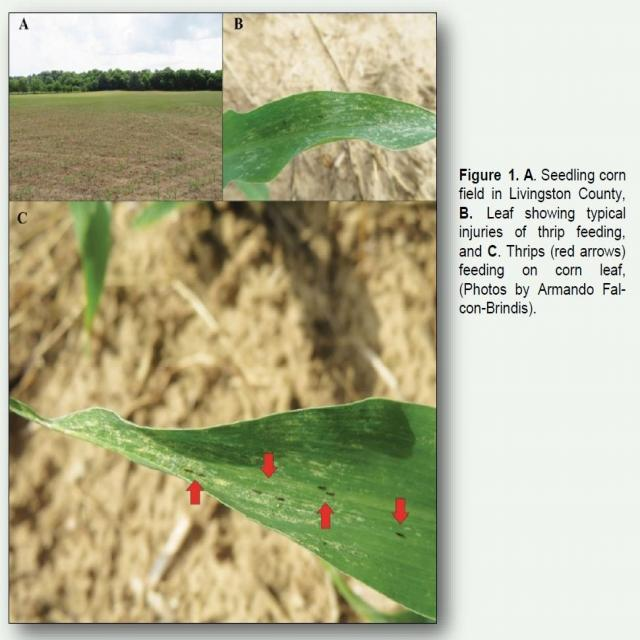Thrip-Adult-: (250, 486, 265, 497), (272, 492, 288, 502), (182, 466, 196, 477), (395, 528, 408, 538), (195, 470, 209, 478), (322, 490, 338, 496), (316, 482, 327, 490)
